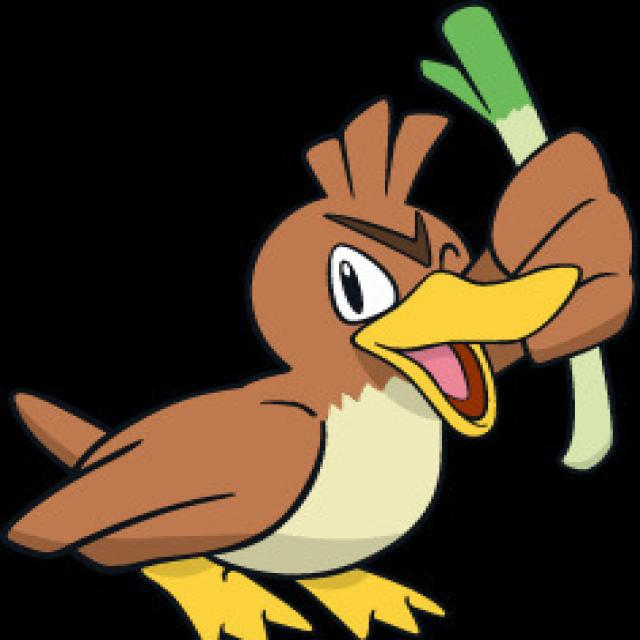Farfetchd: (60, 116, 634, 640)
